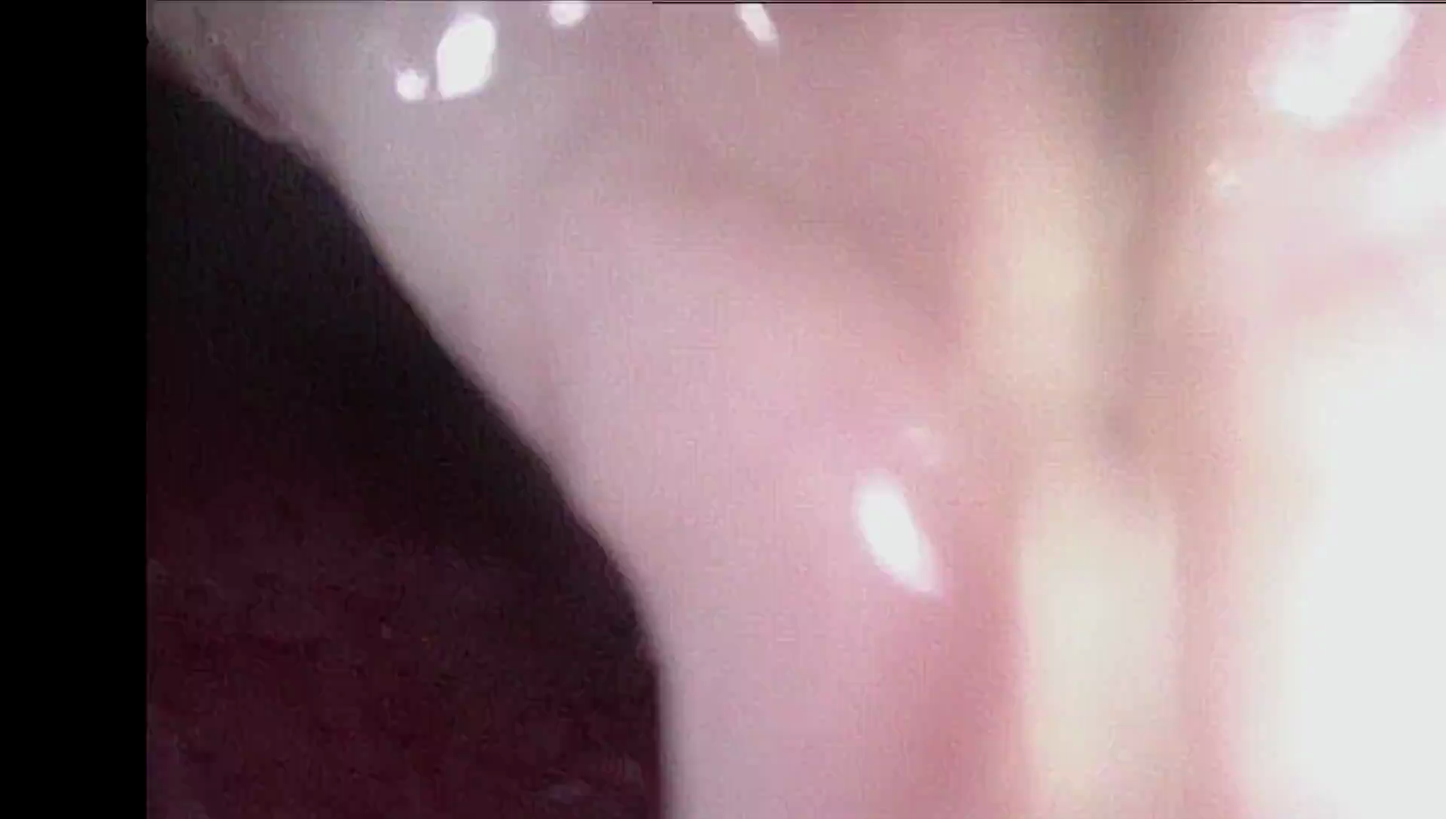close_wall: (772, 43, 1446, 819)
next: (204, 181, 560, 535)
